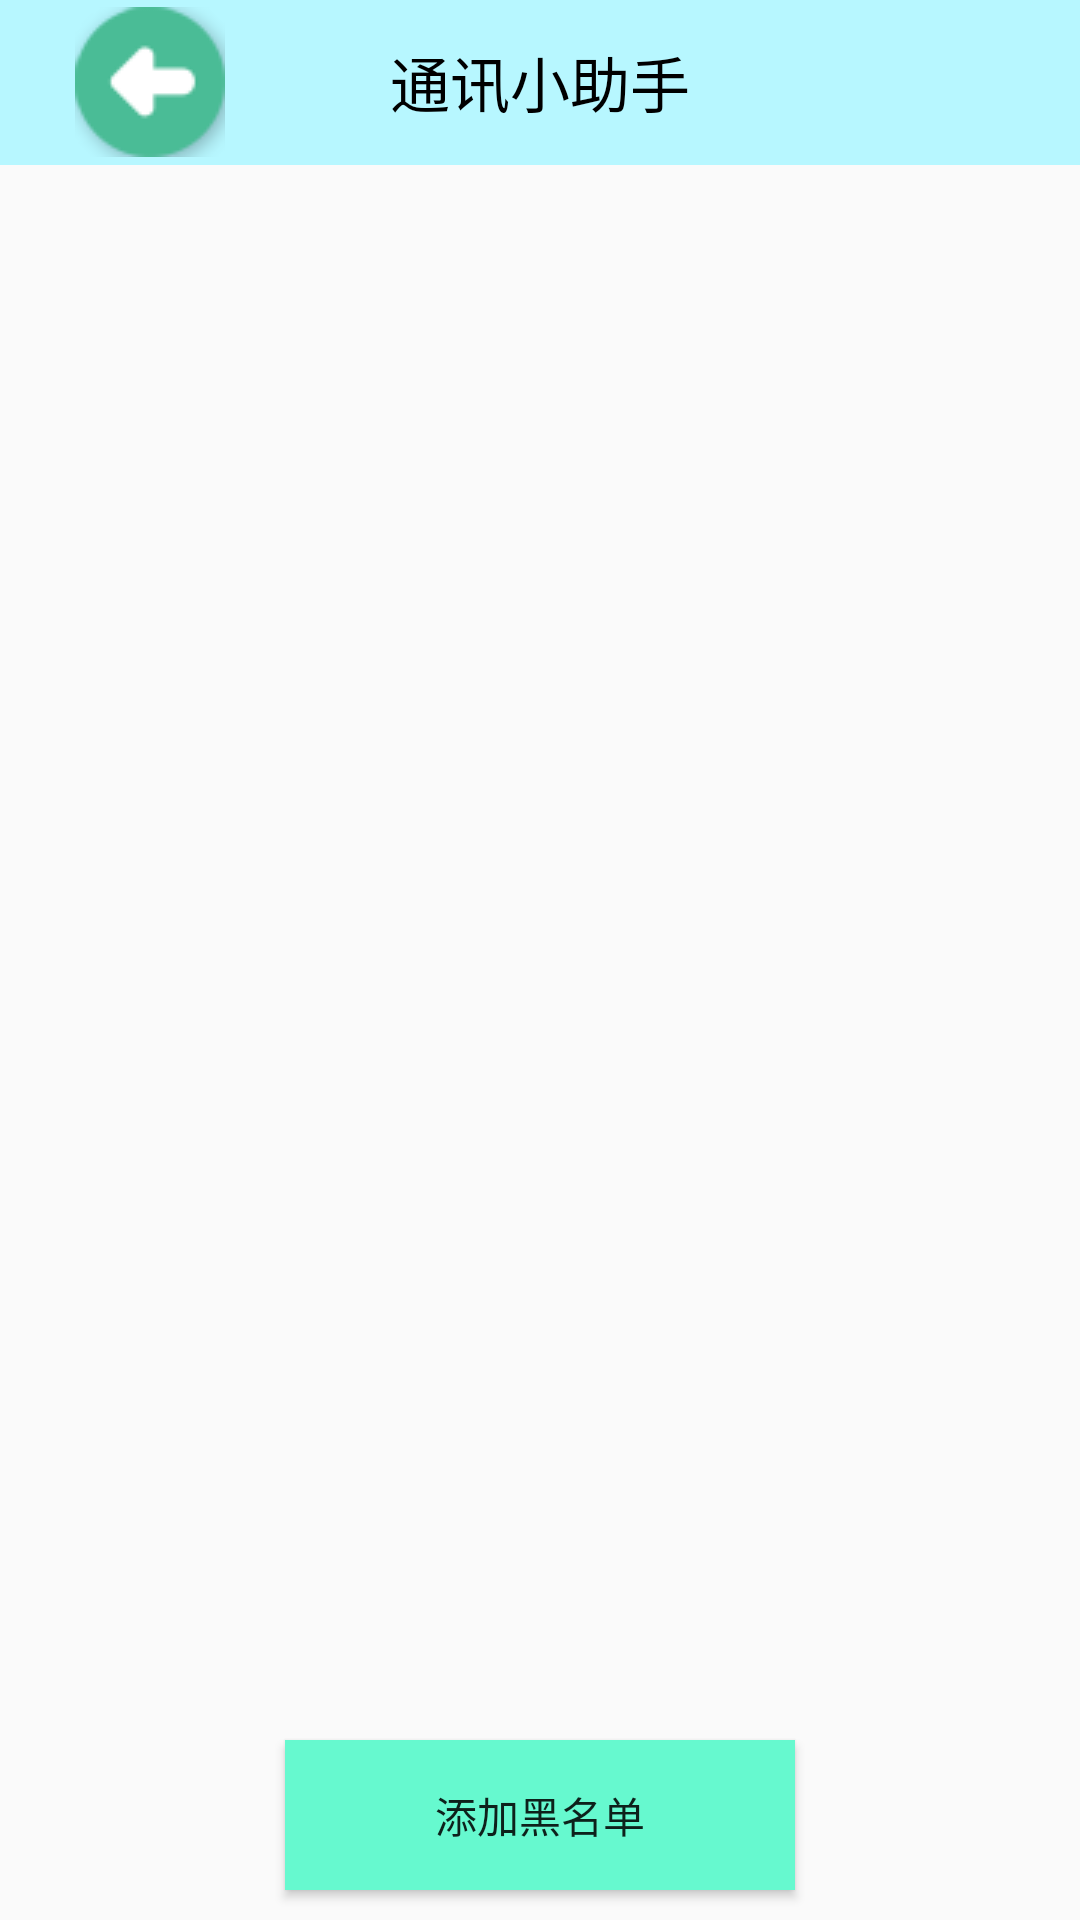

Icons on this 1080w x 1920h Android screen, each with its box as (x1, y1, x2, y2):
back: (75, 7, 225, 157)
